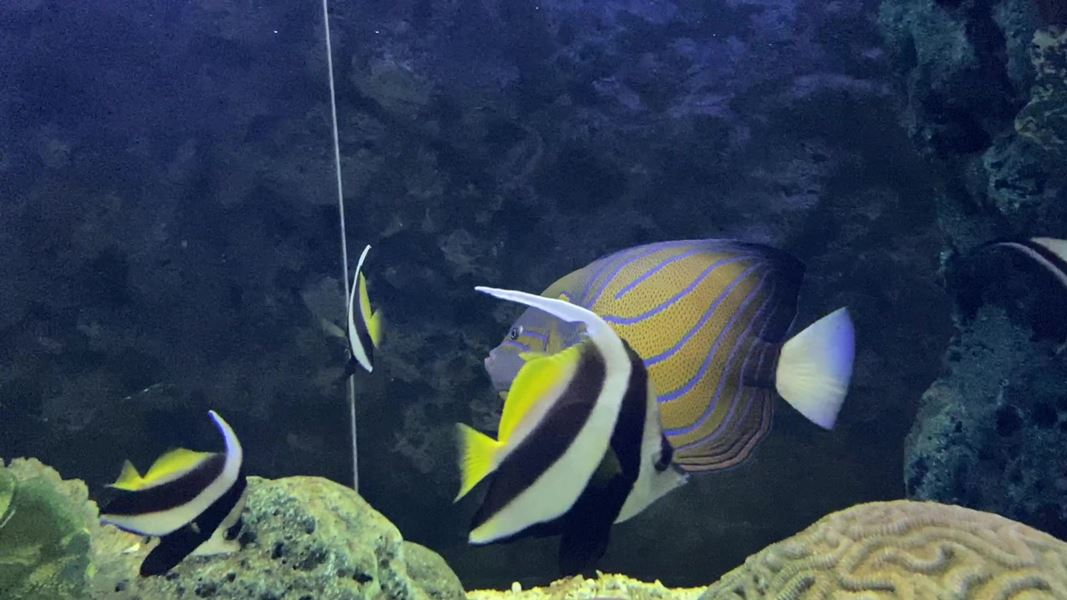Blue ring angelfish: (453, 230, 870, 492)
